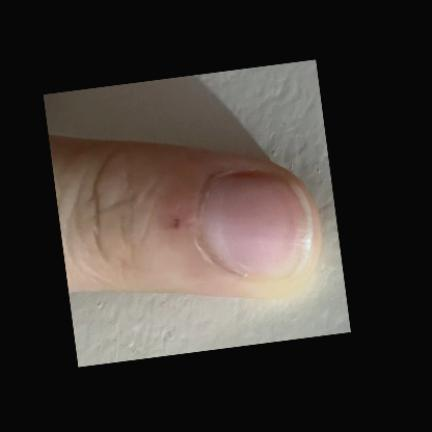Nail: (201, 173, 312, 282)
